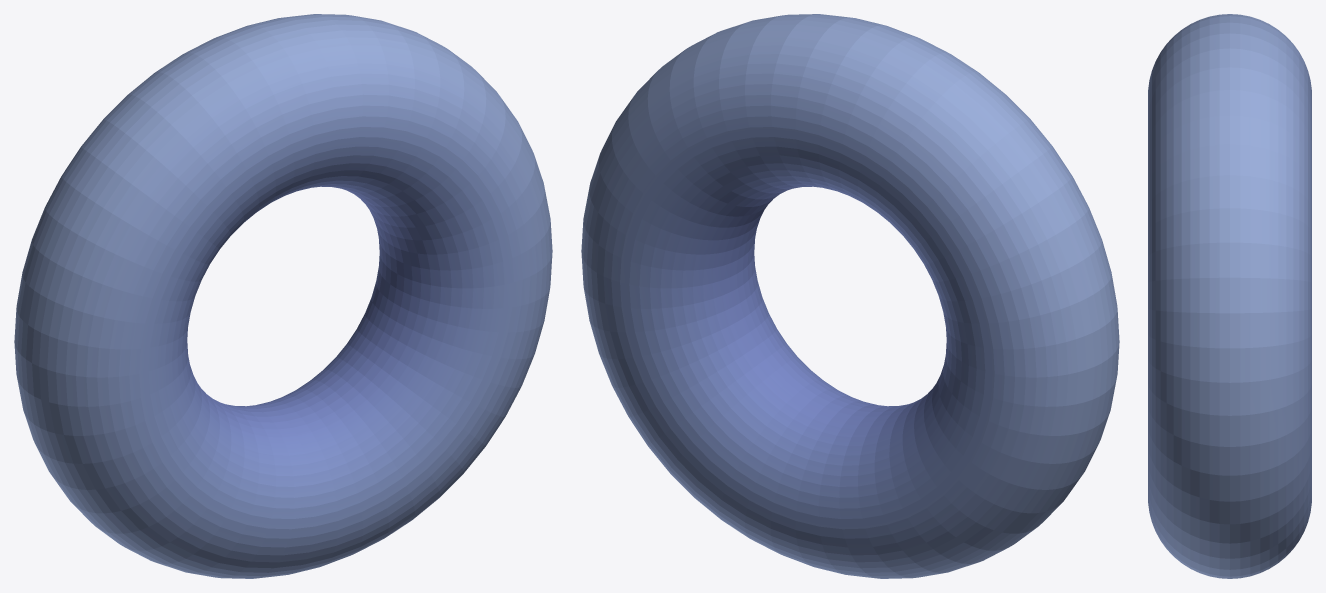
The picture shows the model from 3 angles, left to right: view 1: azimuth 30°, elevation 25°; view 2: azimuth 150°, elevation 25°; view 3: azimuth 270°, elevation 25°; orthographic projection. The views are drawn at different scales.
Visible parts, largest first — view 1: world; view 2: world; view 3: world.
Boxes of the visible parts, <box> form: world: <box>14,14,552,578</box>; world: <box>581,14,1119,578</box>; world: <box>1148,14,1311,578</box>.
Size of the model in its own units: 18.8 by 18.76 by 5.46.
